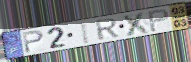2: (47, 26, 70, 51)
I: (79, 20, 91, 45)
P: (21, 29, 45, 55), (147, 8, 171, 33)
R: (94, 17, 121, 41)
X: (121, 10, 153, 37)
